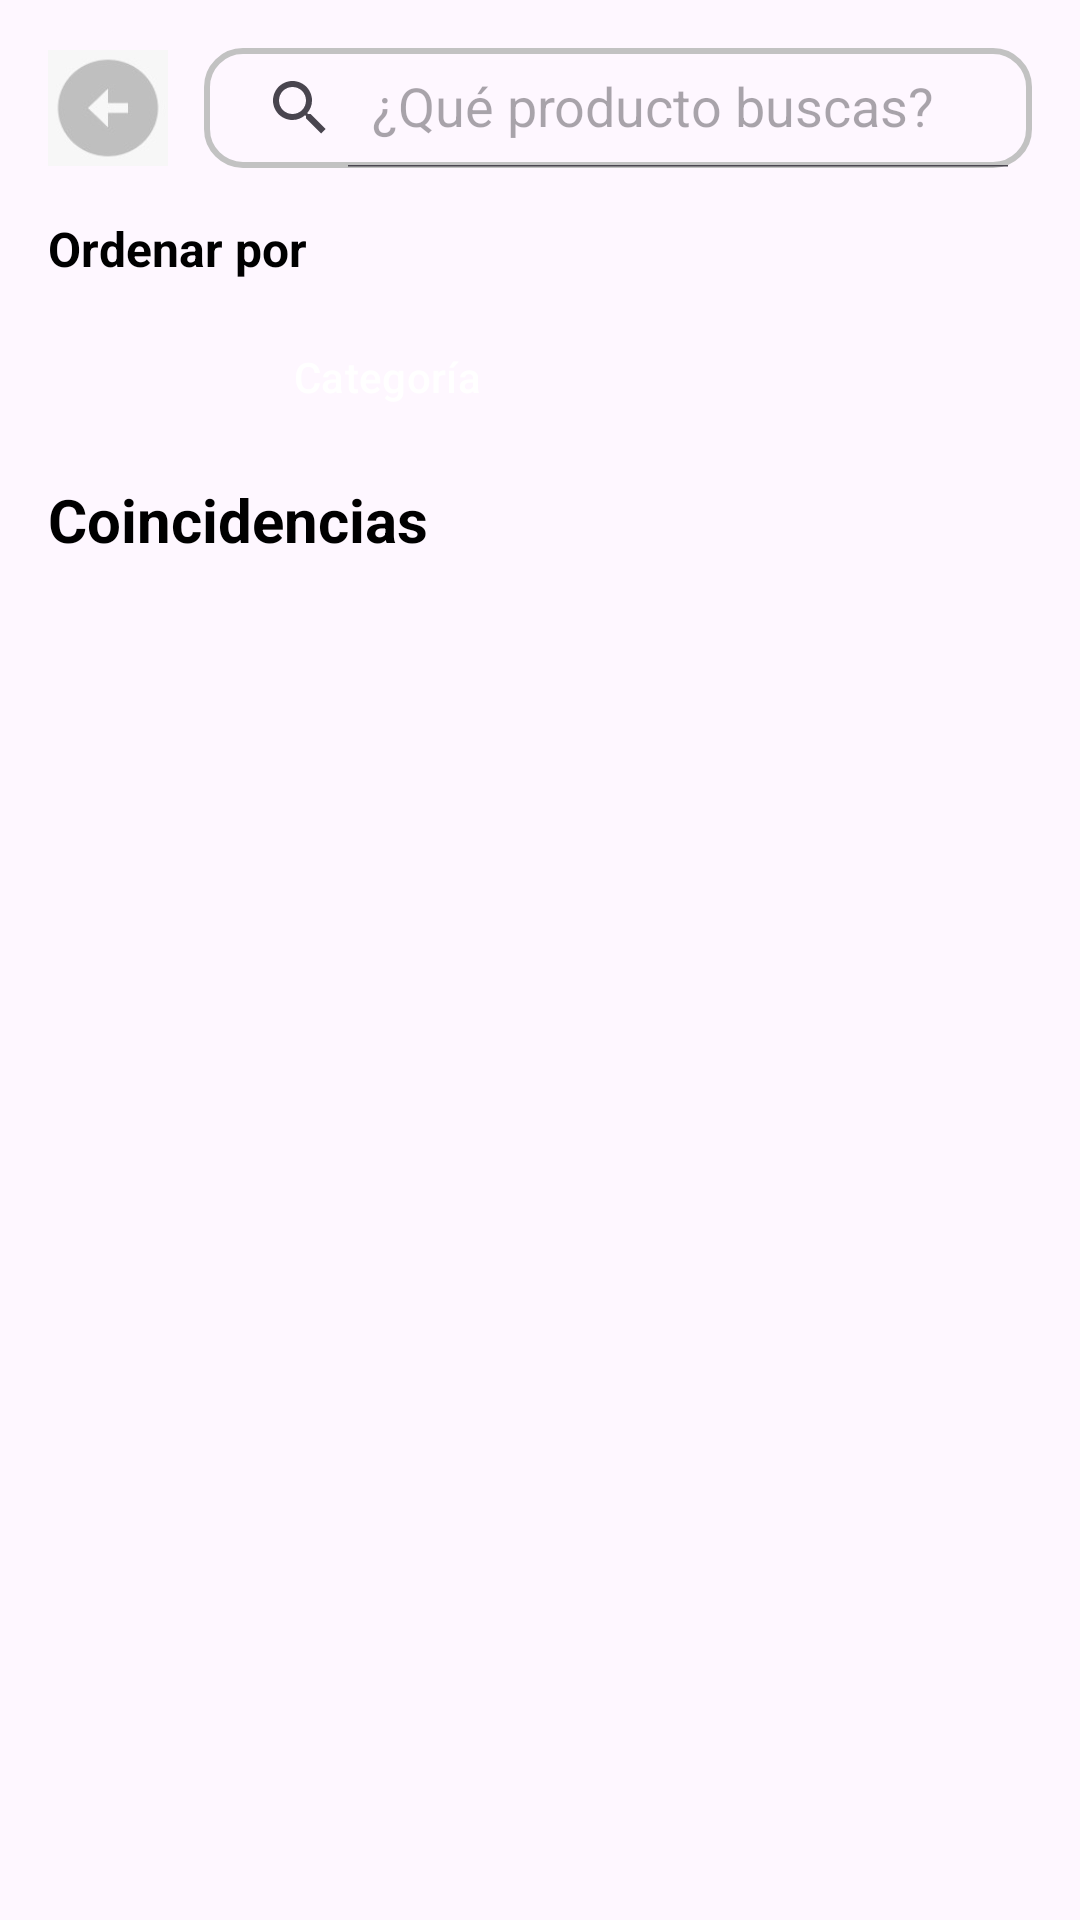

Icon bounding boxes for this 1080 x 1920 phone screenshot, format {"left": x1, "top": y1, "right": x2, "bottom": y2}:
Regresar: {"left": 58, "top": 59, "right": 158, "bottom": 157}
